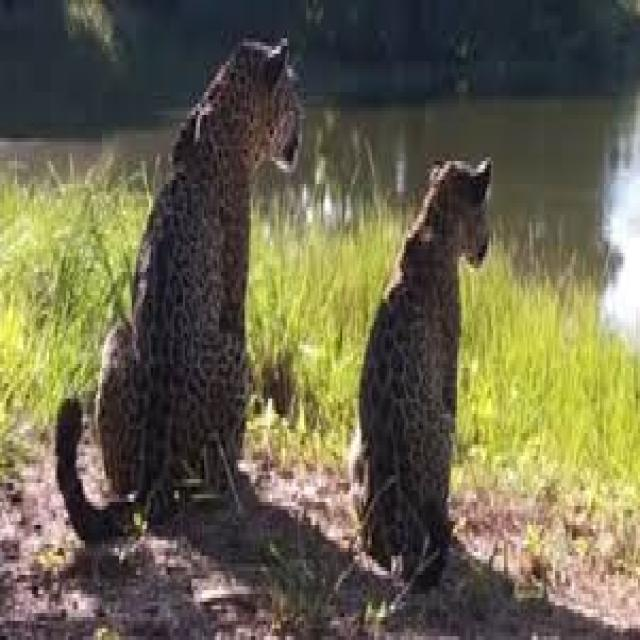Jaguar: (95, 31, 298, 487), (342, 153, 493, 575)
